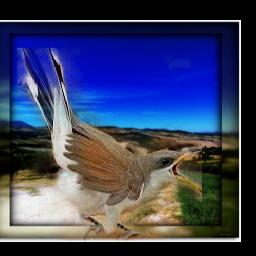Cuckoo: (18, 48, 203, 240)
